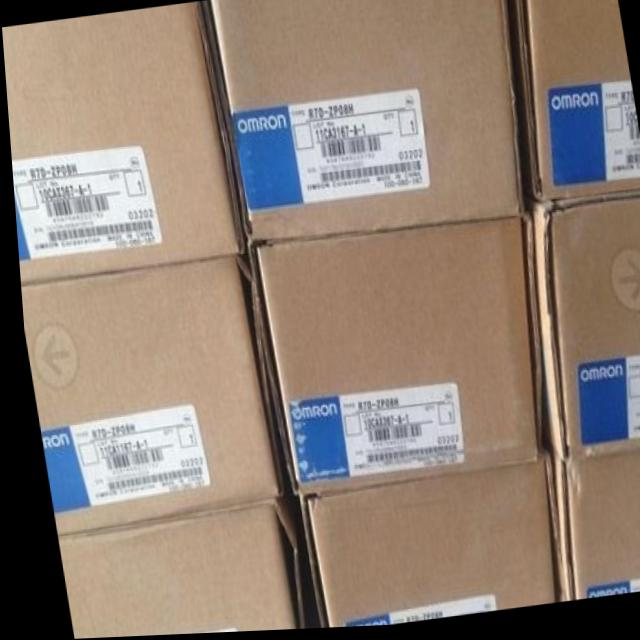box: (241, 216, 538, 500), (201, 0, 524, 244), (16, 259, 276, 534), (2, 2, 242, 283), (286, 453, 559, 631), (49, 501, 296, 639), (523, 194, 640, 468), (509, 0, 640, 202), (539, 453, 640, 605)
